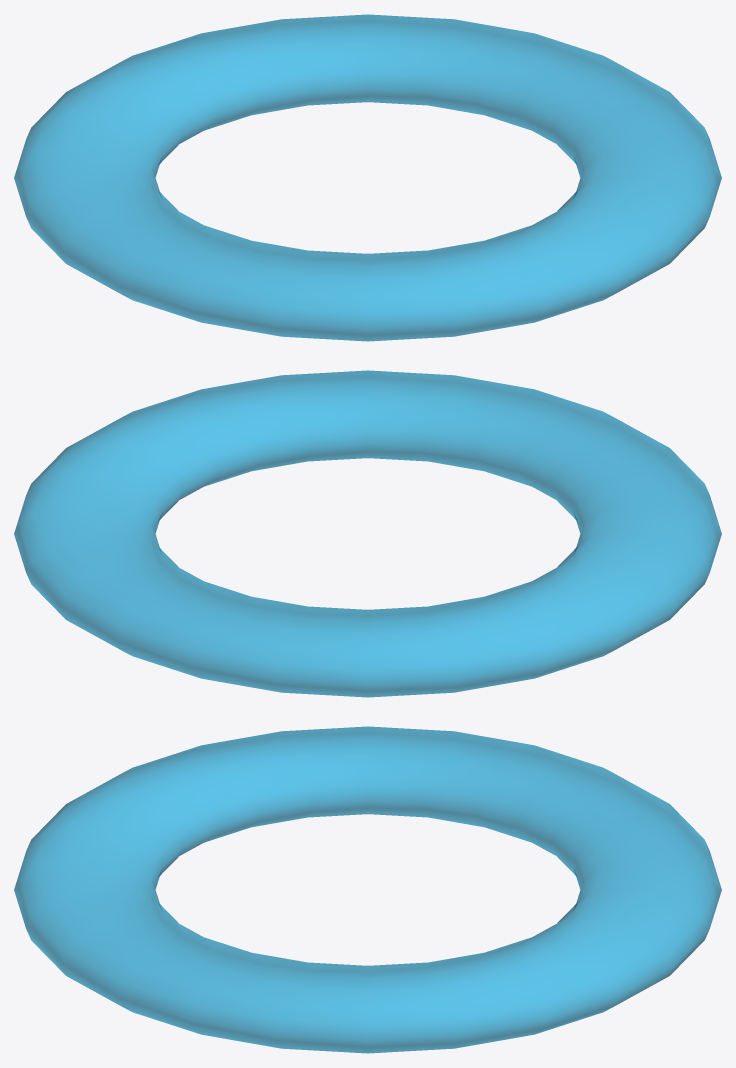
Rendered from Shockwave.obj.
The picture shows the model from 3 angles, top to bottom: view 1: azimuth 30°, elevation 25°; view 2: azimuth 150°, elevation 25°; view 3: azimuth 270°, elevation 25°; orthographic projection.
Visible parts, largest first — view 1: Shockwave; view 2: Shockwave; view 3: Shockwave.
Boxes of the visible parts, bbox=[...] form: Shockwave: bbox=[14, 14, 721, 341]; Shockwave: bbox=[14, 370, 721, 697]; Shockwave: bbox=[14, 726, 721, 1053].
Bounding box in the file's own units: 1 × 0.1 × 1.
